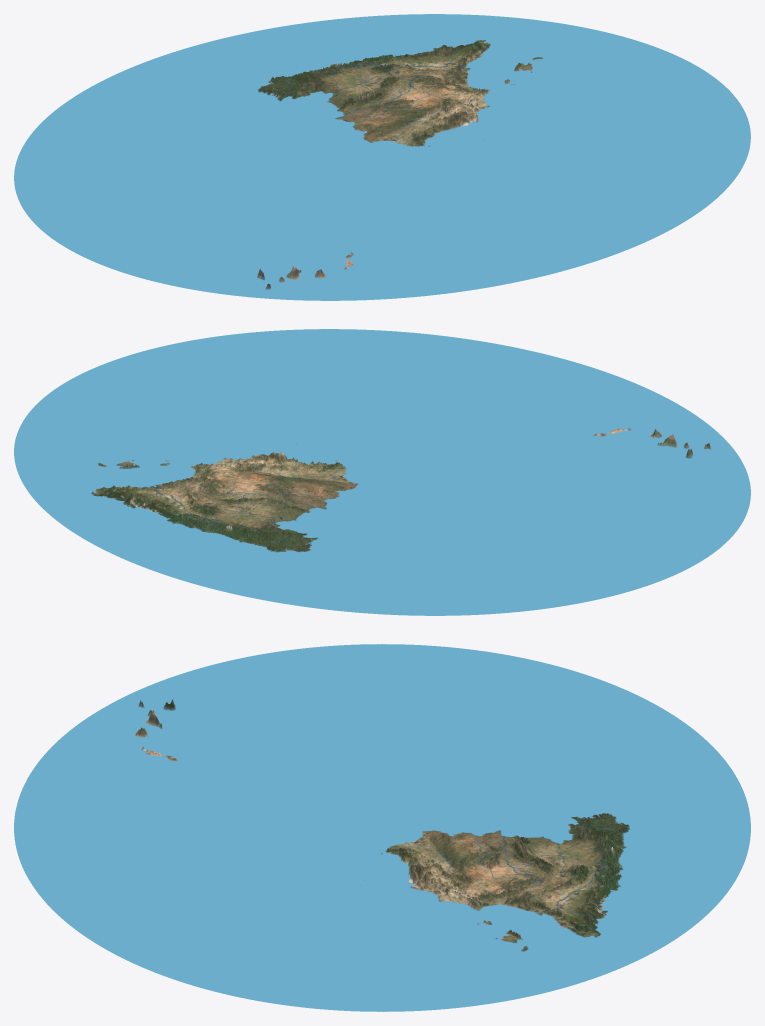
The model's file is ESP-previa-terrain.glb.
The picture shows the model from 3 angles, top to bottom: view 1: azimuth 30°, elevation 25°; view 2: azimuth 150°, elevation 25°; view 3: azimuth 270°, elevation 25°; orthographic projection. The views are drawn at different scales.
Visible parts, largest first — view 1: Espanha; view 2: Espanha; view 3: Espanha.
Boxes of the visible parts, bbox=[...] form: Espanha: bbox=[14, 14, 750, 300]; Espanha: bbox=[14, 329, 750, 615]; Espanha: bbox=[14, 644, 750, 1011].
Bounding box in the file's own units: 2.65 × 0.045 × 2.25.
Materials: 1 (1 with a texture image).
